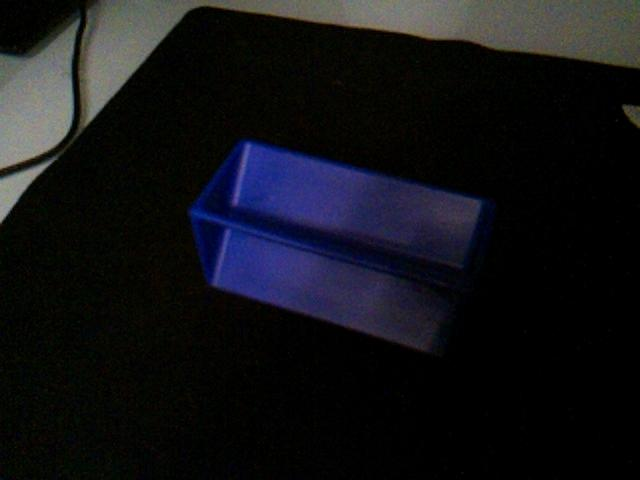blue: (187, 136, 498, 359)
